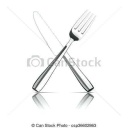fork: (32, 8, 96, 96)
